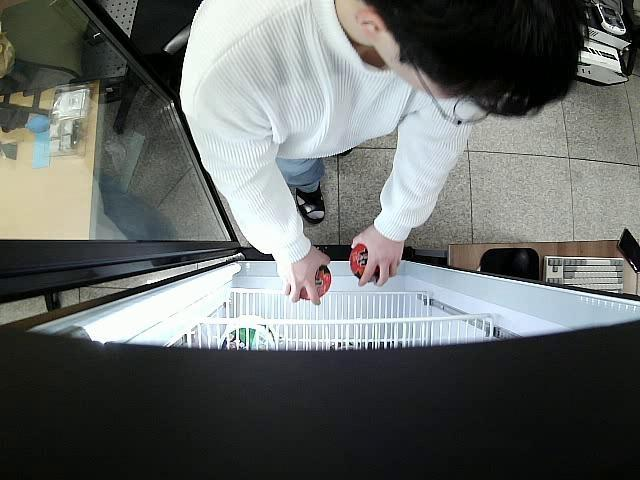02_shinRamen_S: (286, 264, 331, 300), (348, 243, 383, 282)
